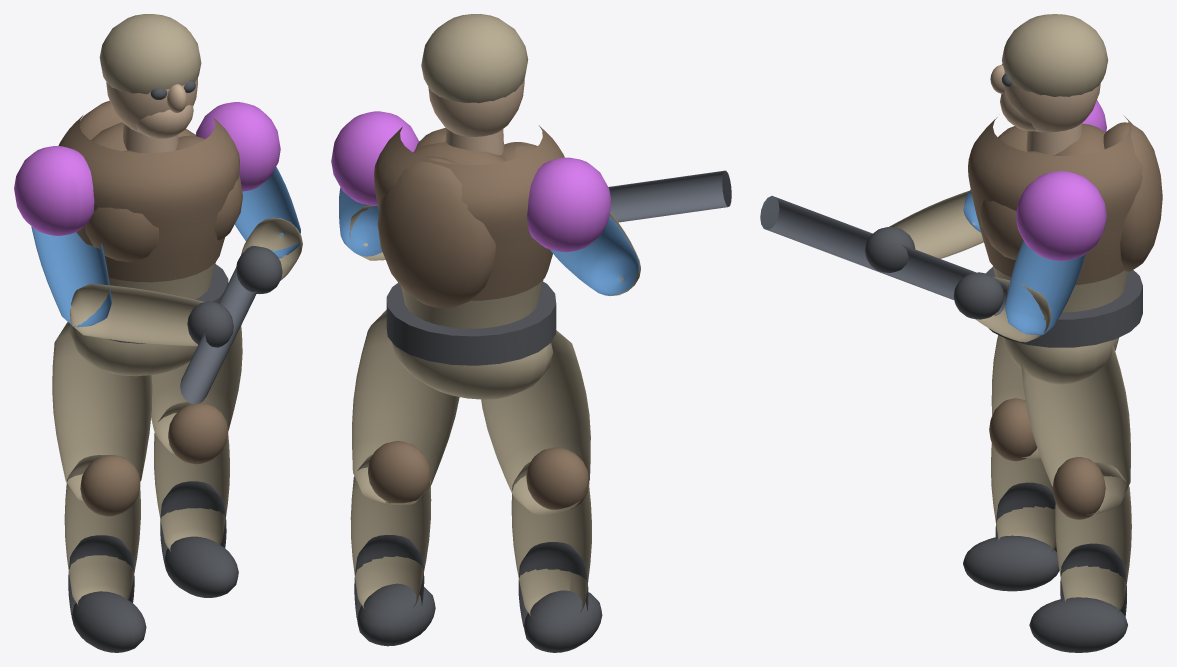
The model's file is ptroop.glb.
3 views of the same model, side by side, from view 1: azimuth 30°, elevation 25°; view 2: azimuth 150°, elevation 25°; view 3: azimuth 270°, elevation 25° (orthographic). The views are drawn at different scales.
Parts seen in each view (by area): view 1: Hull; view 2: Hull; view 3: Hull.
Boxes of the visible parts, x1,y1,x2,y2 form: Hull: (14, 14, 302, 652); Hull: (331, 14, 731, 652); Hull: (760, 14, 1162, 652).
Bounding box in the file's own units: 0.4343 × 0.94 × 0.5716.
